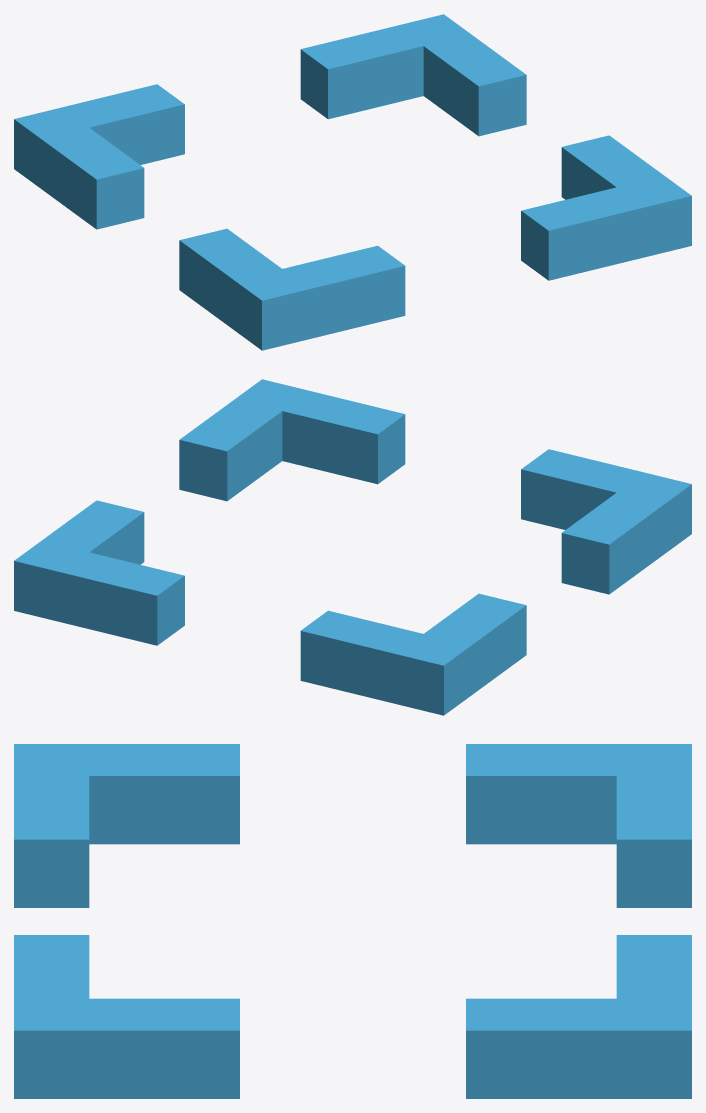
Rendered from Selector.obj.
3 renders of one model, top to bottom at view 1: azimuth 30°, elevation 25°; view 2: azimuth 150°, elevation 25°; view 3: azimuth 270°, elevation 25°, orthographic. The views are drawn at different scales.
Size of the model in its own units: 0.9 by 0.1 by 0.9.
1 material, 1 textured.
